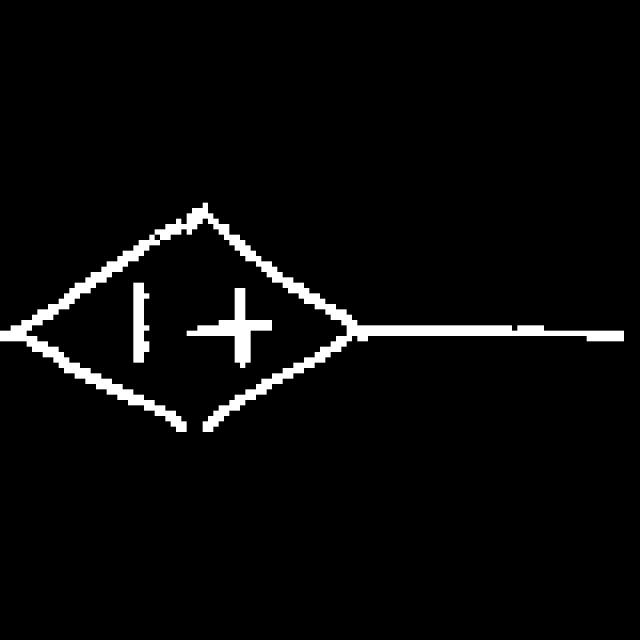dependant_voltage: (11, 184, 379, 461)
